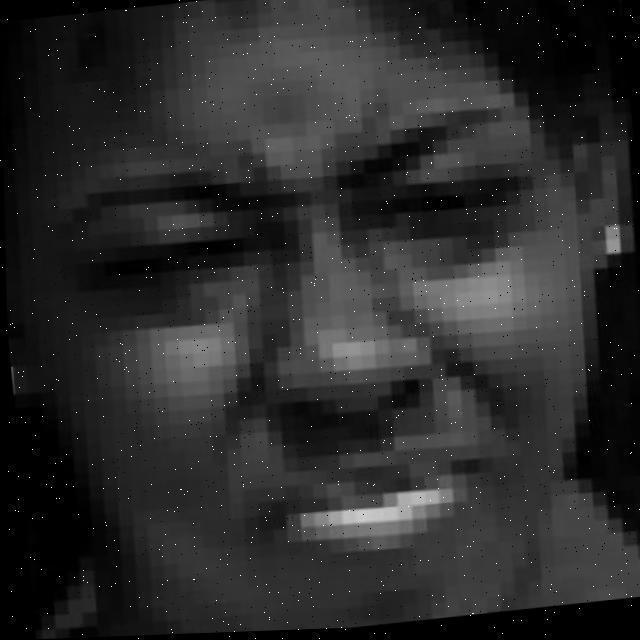Disgust: (26, 67, 581, 614)
